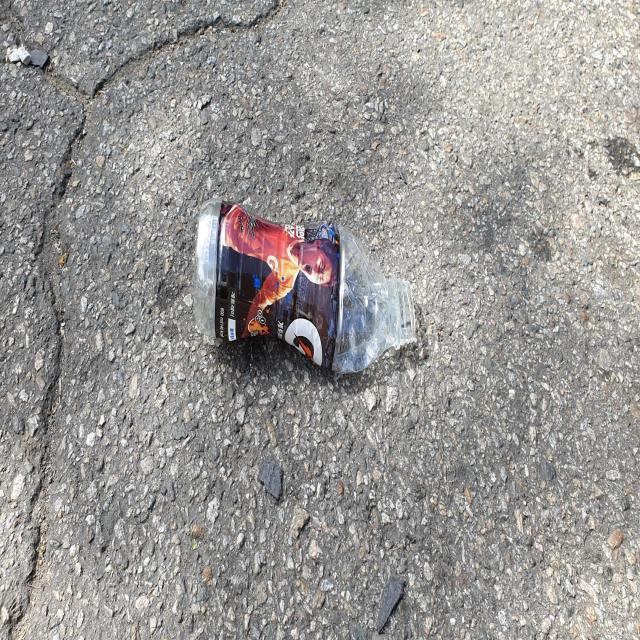plastic: (193, 199, 416, 374)
